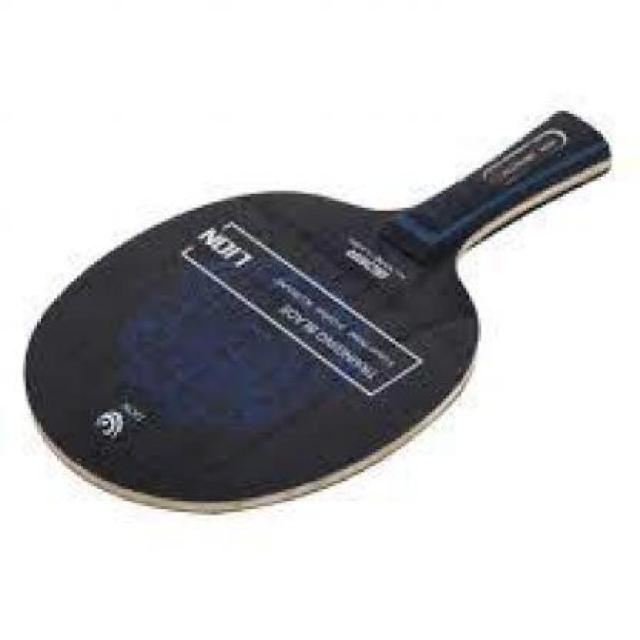table_tennis_racket: (21, 180, 482, 522)
